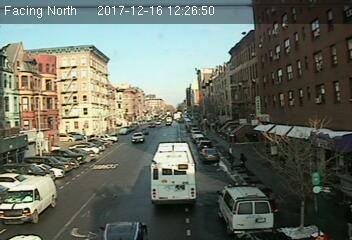bus: (149, 141, 198, 205)
car: (200, 147, 220, 164), (130, 131, 145, 143)
police: (214, 180, 275, 233)
truck: (1, 176, 57, 223)
